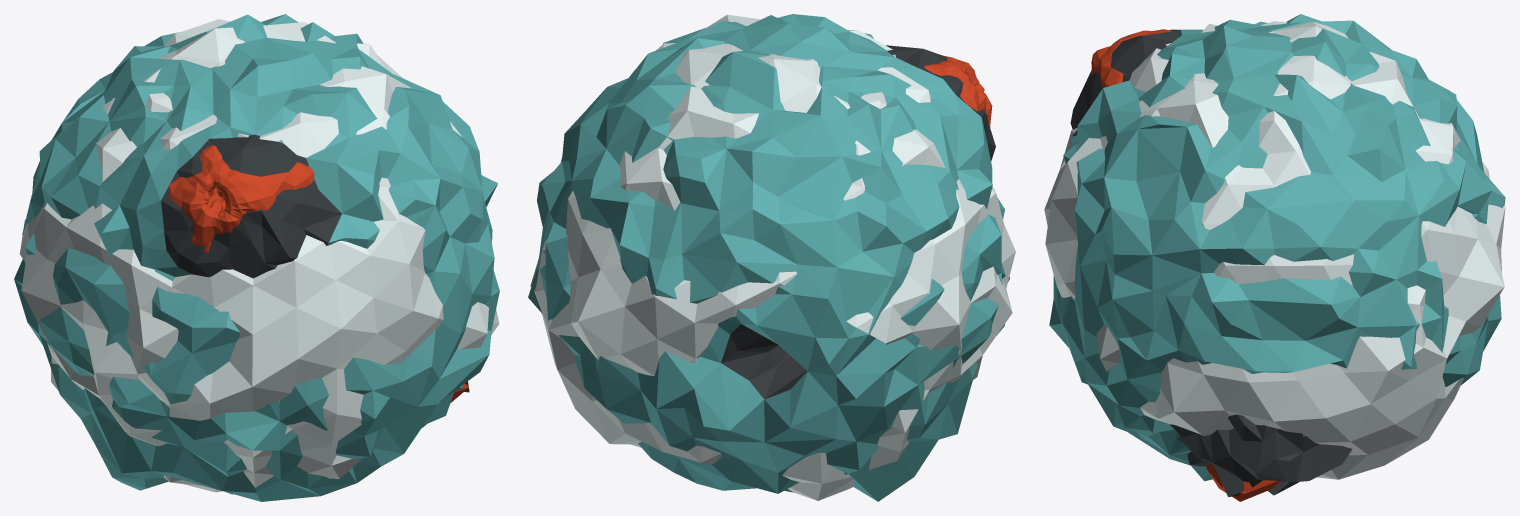
3 renders of one model, left to right at view 1: azimuth 30°, elevation 25°; view 2: azimuth 150°, elevation 25°; view 3: azimuth 270°, elevation 25°, orthographic. The views are drawn at different scales.
Visible parts, largest first — view 1: TP_Planet; view 2: TP_Planet; view 3: TP_Planet.
Boxes of the visible parts, left/top/right/bottom form: TP_Planet: left=14, top=14, right=499, bottom=501; TP_Planet: left=528, top=14, right=1015, bottom=501; TP_Planet: left=1044, top=14, right=1505, bottom=501.
Bounding box in the file's own units: 1015 × 1007 × 985.
Materials: 1 (1 with a texture image).
